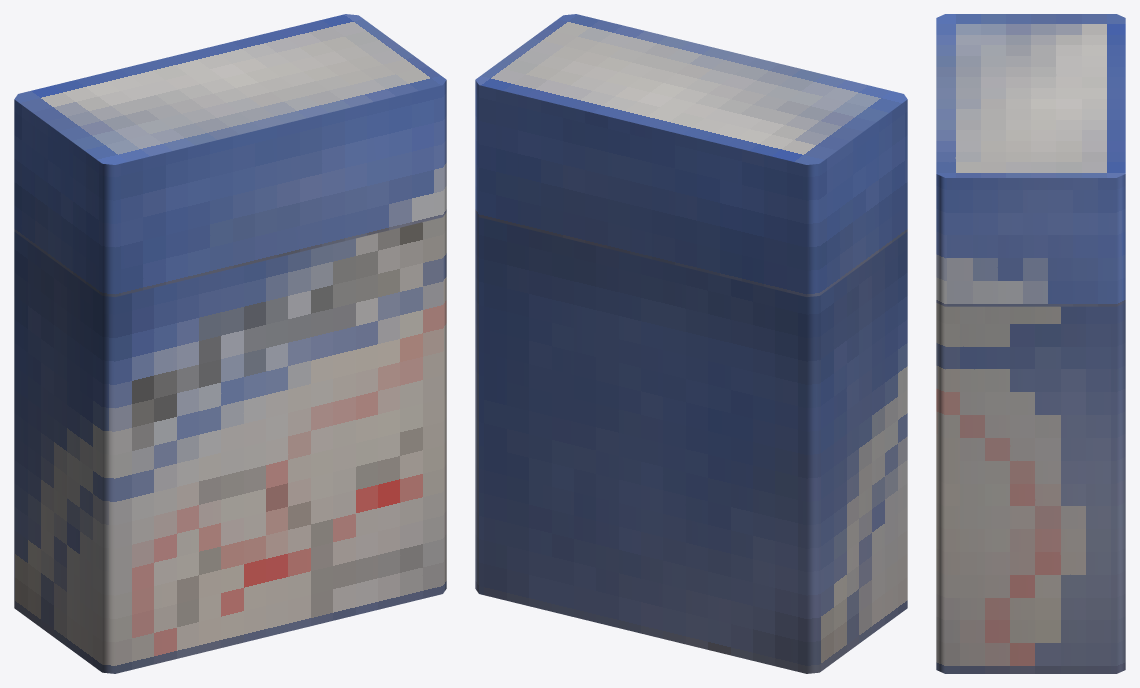
File: ciggarete_box.obj
The picture shows the model from 3 angles, left to right: view 1: azimuth 30°, elevation 25°; view 2: azimuth 150°, elevation 25°; view 3: azimuth 270°, elevation 25°; orthographic projection. The views are drawn at different scales.
Parts seen in each view (by area): view 1: cig_box; view 2: cig_box; view 3: cig_box.
Boxes of the visible parts, left/top/right/bottom form: cig_box: left=14, top=14, right=446, bottom=673; cig_box: left=475, top=14, right=907, bottom=673; cig_box: left=936, top=14, right=1125, bottom=673.
Size of the model in its own units: 0.184 by 0.2598 by 0.0899.
